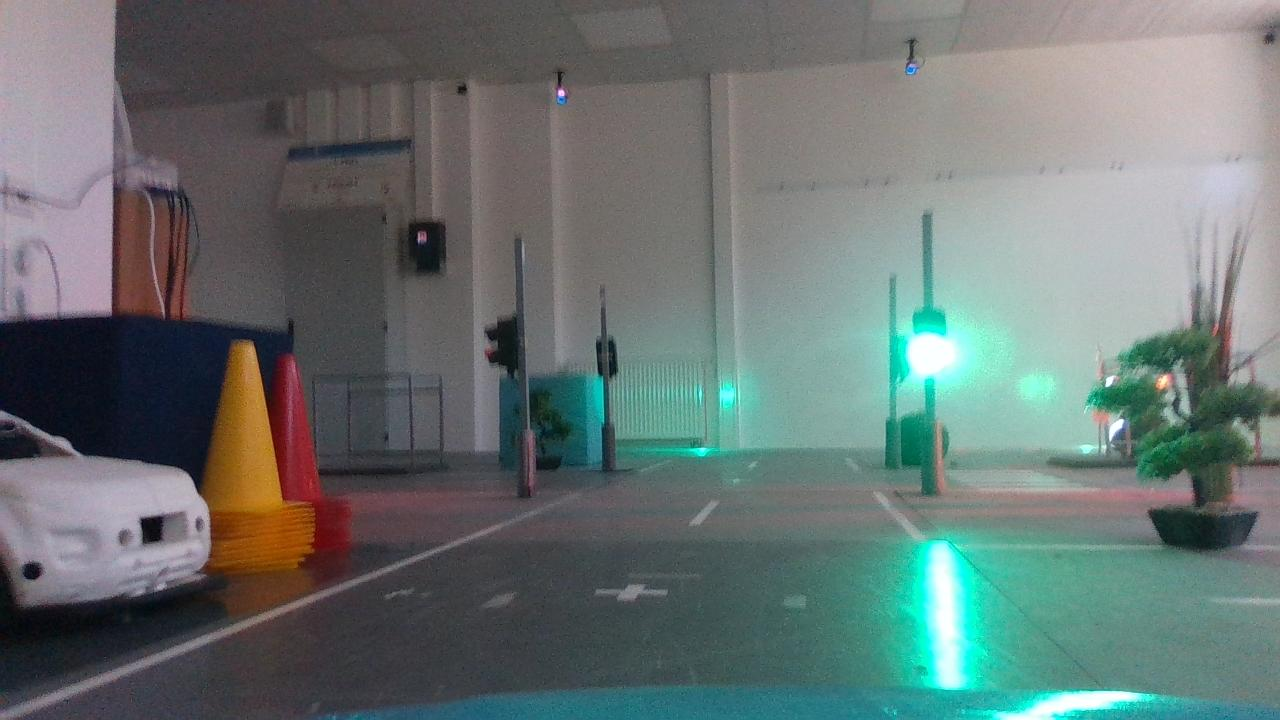traffic_light_green: (902, 298, 958, 387)
